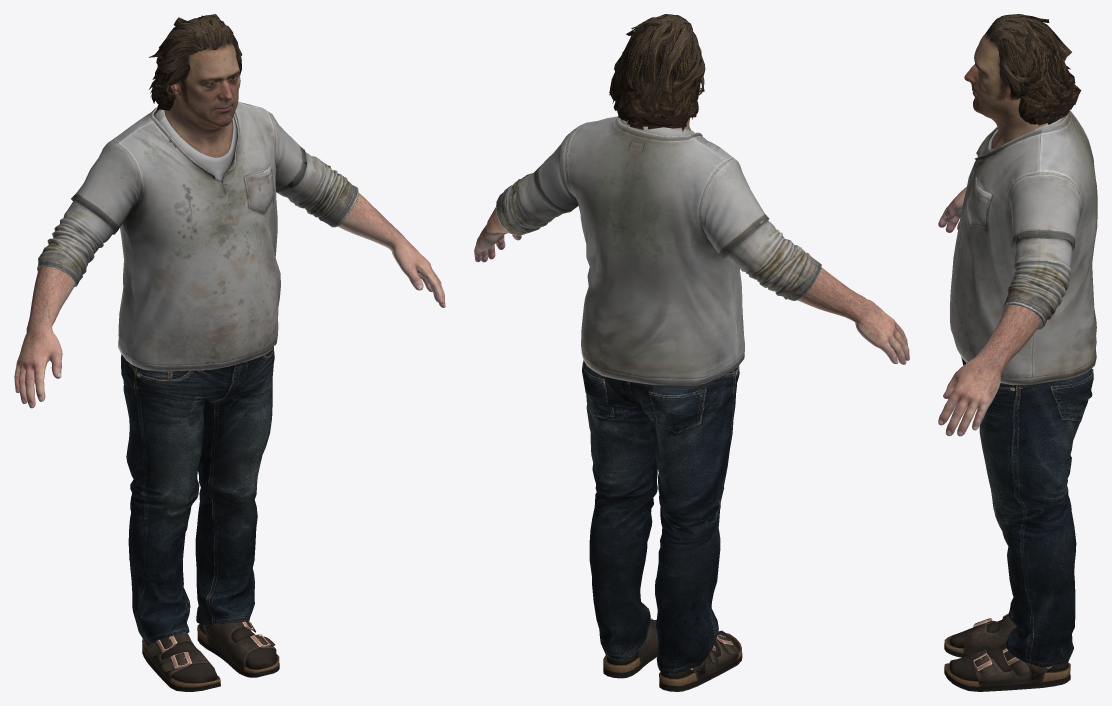
File: farmer.fbx
3 renders of one model, left to right at view 1: azimuth 30°, elevation 25°; view 2: azimuth 150°, elevation 25°; view 3: azimuth 270°, elevation 25°, orthographic.
Parts seen in each view (by area): view 1: Object_14, Object_12, Object_8, Object_15, Object_11, Object_16; view 2: Object_14, Object_12, Object_16, Object_8, Object_15; view 3: Object_14, Object_12, Object_16, Object_8, Object_15, Object_11.
Part boxes in pixels (<box>): Object_14: <box>37,102,358,371</box>; Object_12: <box>121,346,274,644</box>; Object_8: <box>14,193,445,408</box>; Object_15: <box>142,621,279,691</box>; Object_11: <box>164,40,240,157</box>; Object_16: <box>148,14,242,110</box>; Object_14: <box>495,116,821,385</box>; Object_12: <box>582,360,739,674</box>; Object_16: <box>609,14,705,131</box>; Object_8: <box>474,207,909,364</box>; Object_15: <box>603,618,742,691</box>; Object_14: <box>950,110,1097,385</box>; Object_12: <box>961,357,1093,667</box>; Object_16: <box>985,14,1081,125</box>; Object_8: <box>938,186,1041,436</box>; Object_15: <box>944,613,1070,691</box>; Object_11: <box>964,33,1047,149</box>.
Bounding box in the file's own units: 107 × 156 × 34.87.
Materials: 10 (10 with a texture image).
